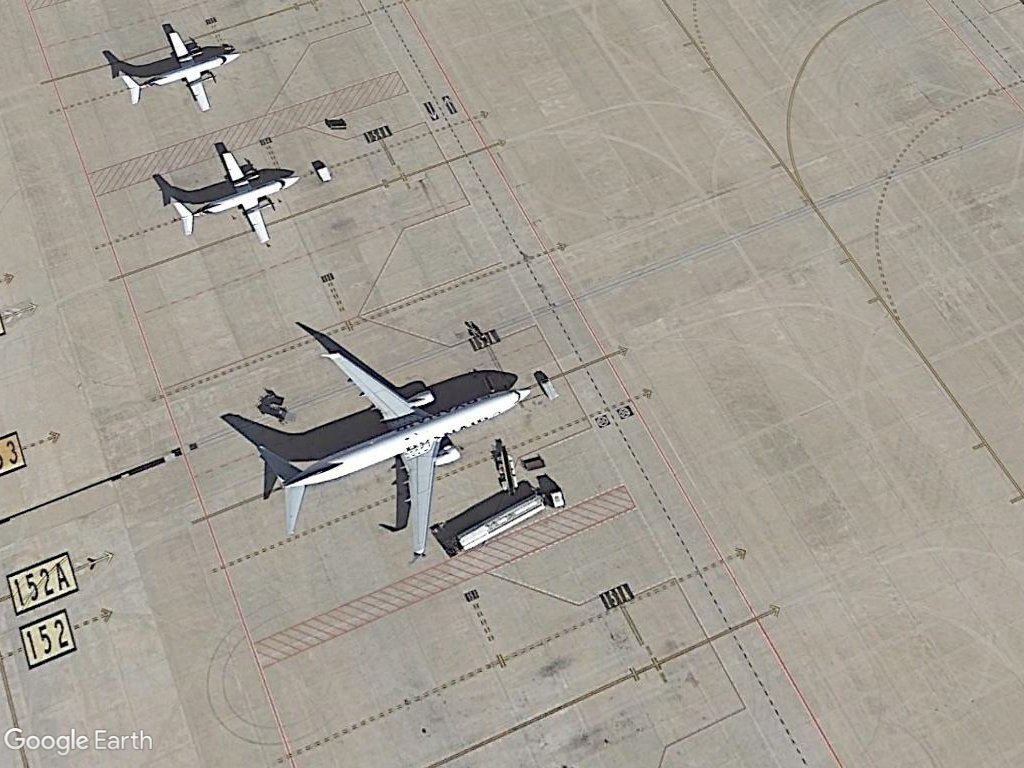airliner: (255, 347, 533, 568)
propeller: (163, 152, 302, 251), (108, 23, 243, 118)
